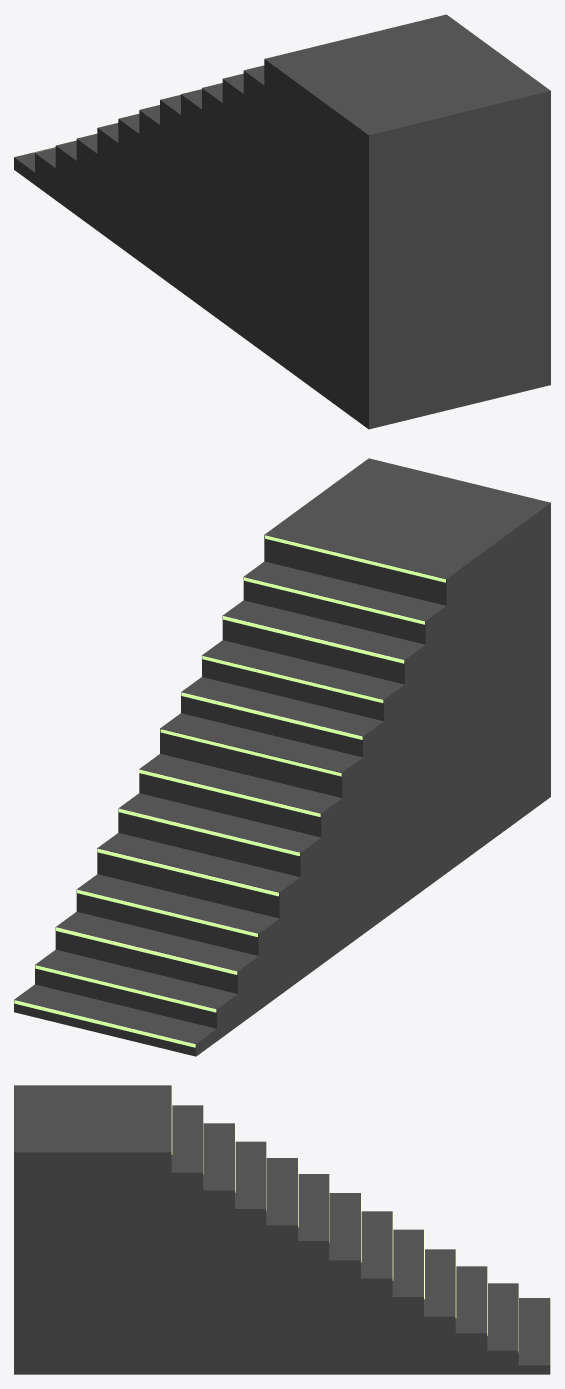
Rendered from stairs.fbx.
3 views of the same model, one above another, from view 1: azimuth 30°, elevation 25°; view 2: azimuth 150°, elevation 25°; view 3: azimuth 270°, elevation 25° (orthographic). The views are drawn at different scales.
Parts seen in each view (by area): view 1: Stair; view 2: Stair, Stair_lights; view 3: Stair, Stair_lights.
Boxes of the visible parts, x1,y1,x2,y2 form: Stair: (14, 14, 550, 429); Stair: (14, 458, 550, 1056); Stair_lights: (14, 535, 445, 1047); Stair: (14, 1085, 550, 1374); Stair_lights: (171, 1086, 550, 1367).
Size of the model in its own units: 172 by 266 by 582.
